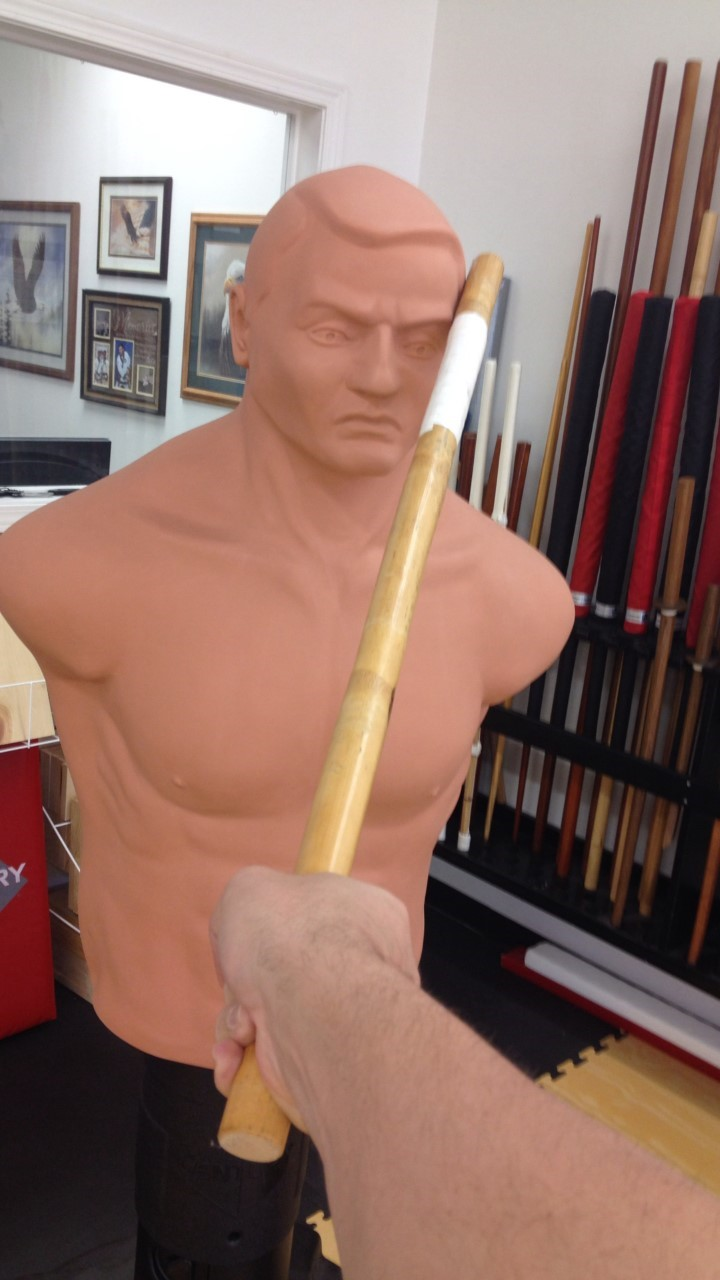baston_e: (211, 282, 504, 1105)
baston_v: (200, 1030, 309, 1191), (461, 235, 512, 297), (669, 464, 700, 501), (679, 47, 706, 79), (649, 49, 671, 80), (699, 199, 719, 228), (506, 353, 525, 376), (514, 436, 534, 455), (461, 426, 480, 446), (483, 353, 500, 370), (582, 218, 593, 231), (592, 213, 603, 224)
